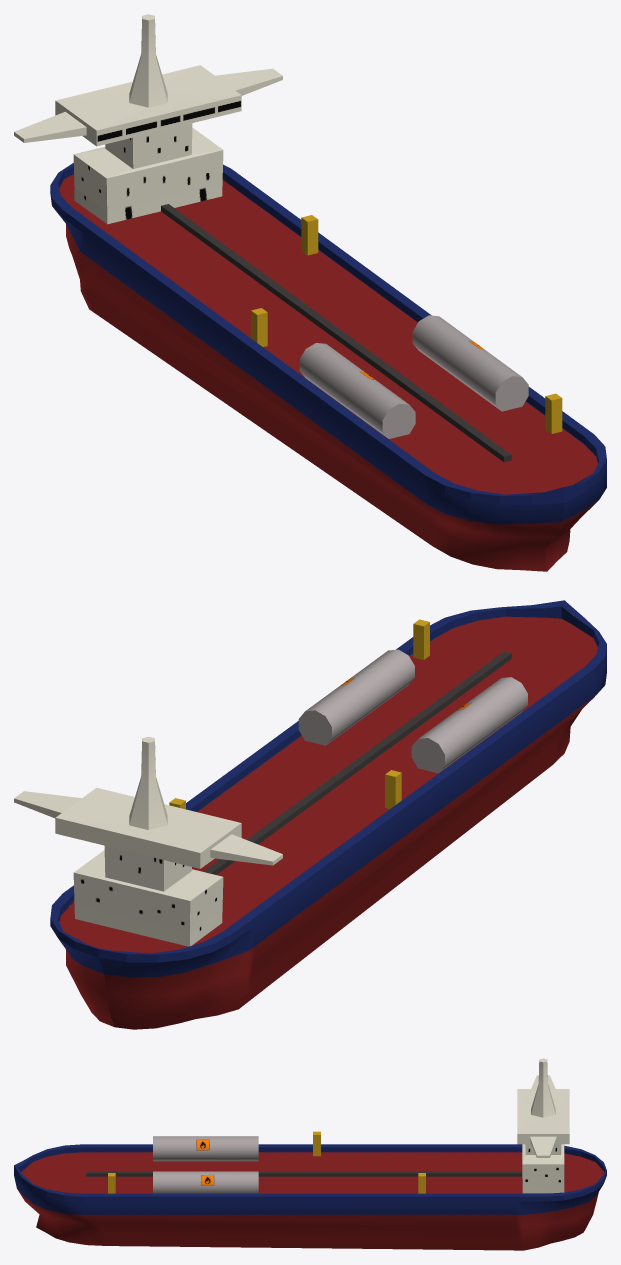
Rendered from ship.gltf.
3 renders of one model, top to bottom at view 1: azimuth 30°, elevation 25°; view 2: azimuth 150°, elevation 25°; view 3: azimuth 270°, elevation 25°, orthographic. The views are drawn at different scales.
Bounding box in the file's own units: 99.79 × 96.68 × 311.
Materials: 1 (1 with a texture image).
